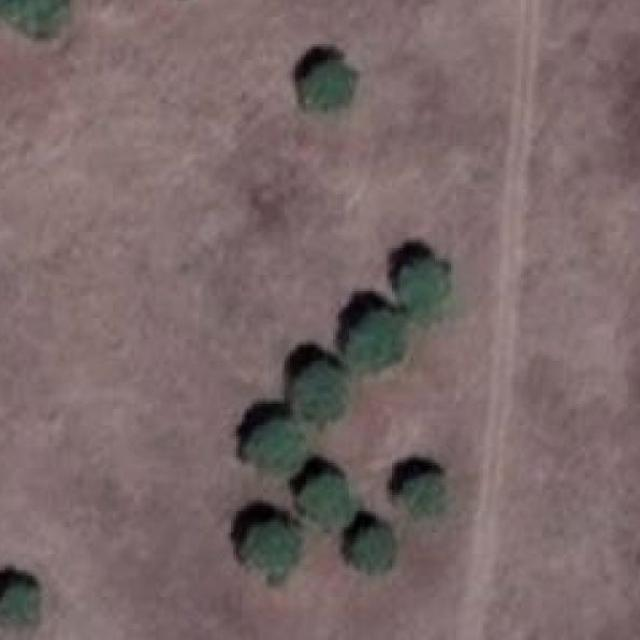Tree: (349, 310, 406, 370), (247, 420, 304, 473), (300, 60, 358, 112), (247, 520, 299, 576), (403, 259, 449, 318), (295, 366, 344, 418), (304, 476, 352, 527), (403, 473, 449, 522), (0, 0, 67, 33), (354, 527, 396, 568), (0, 583, 35, 624)
